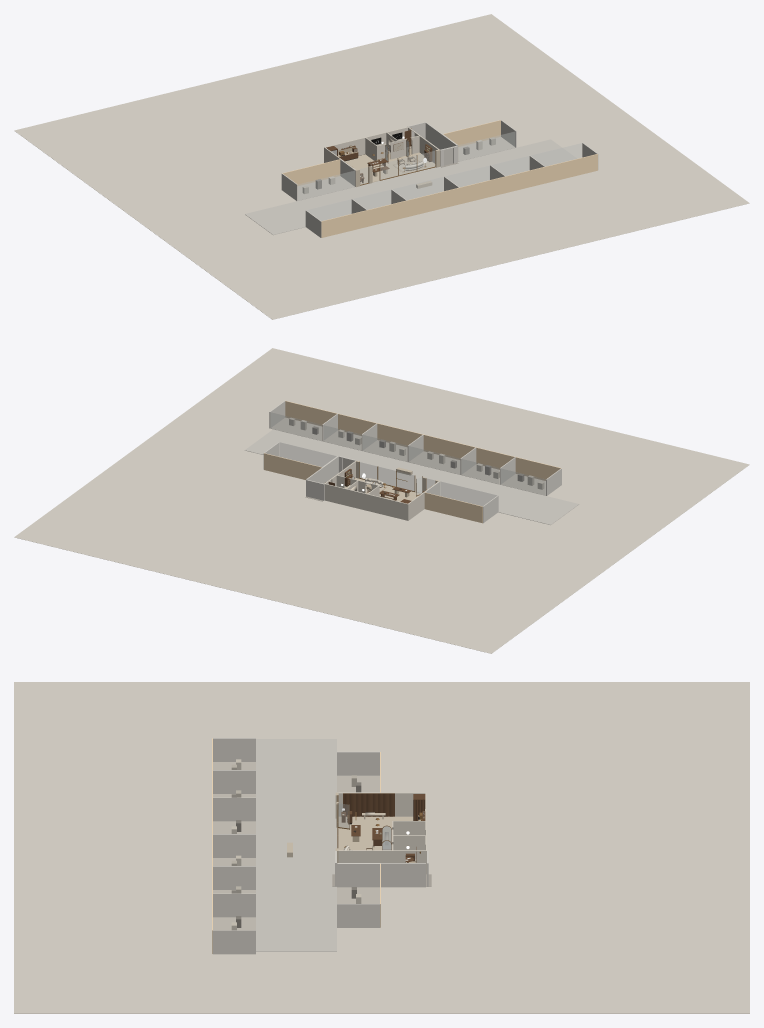
The model's file is store-mall.glb.
3 views of the same model, one above another, from view 1: azimuth 30°, elevation 25°; view 2: azimuth 150°, elevation 25°; view 3: azimuth 270°, elevation 25° (orthographic). The views are drawn at different scales.
Visible parts, largest first — view 1: ground, concourse, floor, tenant-left-glass, tenant-right-glass, tenant-across-2-back, tenant-across-5-back, tenant-left-back, tenant-right-back, tenant-across-3-back, tenant-across-0-back, tenant-across-1-back (+9 smaller); view 2: ground, concourse, wall-back, tenant-left-back, tenant-right-back, tenant-across-2-glass, tenant-across-5-glass, tenant-across-2-back, tenant-across-5-back, tenant-across-0-glass, tenant-across-3-glass, tenant-right-glass (+9 smaller); view 3: ground, concourse, floor, service-wall-far, fluted-wall, tenant-across-5-side-r, tenant-left-side-l, tenant-right-side-l, tenant-across-1-side-r, tenant-across-4-side-r, tenant-right-side-r, tenant-across-0-side-l (+8 smaller).
Part boxes in pixels (x1,y1,x2,y2): ground: [14, 14, 749, 319]; concourse: [245, 139, 576, 234]; floor: [345, 146, 435, 184]; tenant-left-glass: [298, 171, 354, 200]; tenant-right-glass: [459, 131, 515, 161]; tenant-across-2-back: [407, 187, 459, 217]; tenant-across-5-back: [545, 154, 597, 183]; tenant-left-back: [282, 159, 340, 185]; tenant-right-back: [443, 120, 500, 146]; tenant-across-3-back: [459, 176, 505, 204]; tenant-across-0-back: [321, 210, 367, 237]; tenant-across-1-back: [367, 200, 406, 226]; ground: [14, 348, 749, 653]; concourse: [244, 429, 579, 524]; wall-back: [324, 483, 408, 520]; tenant-left-back: [424, 492, 482, 523]; tenant-right-back: [264, 453, 321, 479]; tenant-across-2-glass: [409, 446, 459, 474]; tenant-across-5-glass: [271, 412, 321, 440]; tenant-across-2-back: [423, 434, 475, 459]; tenant-across-5-back: [285, 400, 337, 426]; tenant-across-0-glass: [501, 468, 545, 495]; tenant-across-3-glass: [363, 435, 407, 461]; tenant-right-glass: [280, 442, 336, 466]; ground: [14, 682, 749, 1013]; concourse: [256, 739, 336, 951]; floor: [338, 816, 416, 860]; service-wall-far: [338, 863, 425, 887]; fluted-wall: [343, 793, 394, 816]; tenant-across-5-side-r: [212, 930, 255, 954]; tenant-left-side-l: [337, 751, 379, 775]; tenant-right-side-l: [337, 863, 379, 887]; tenant-across-1-side-r: [213, 797, 255, 821]; tenant-across-4-side-r: [213, 893, 255, 917]; tenant-right-side-r: [337, 904, 380, 927]; tenant-across-0-side-l: [213, 738, 255, 761].
Bounding box in the file's own units: 72.5 × 2.83 × 68.
